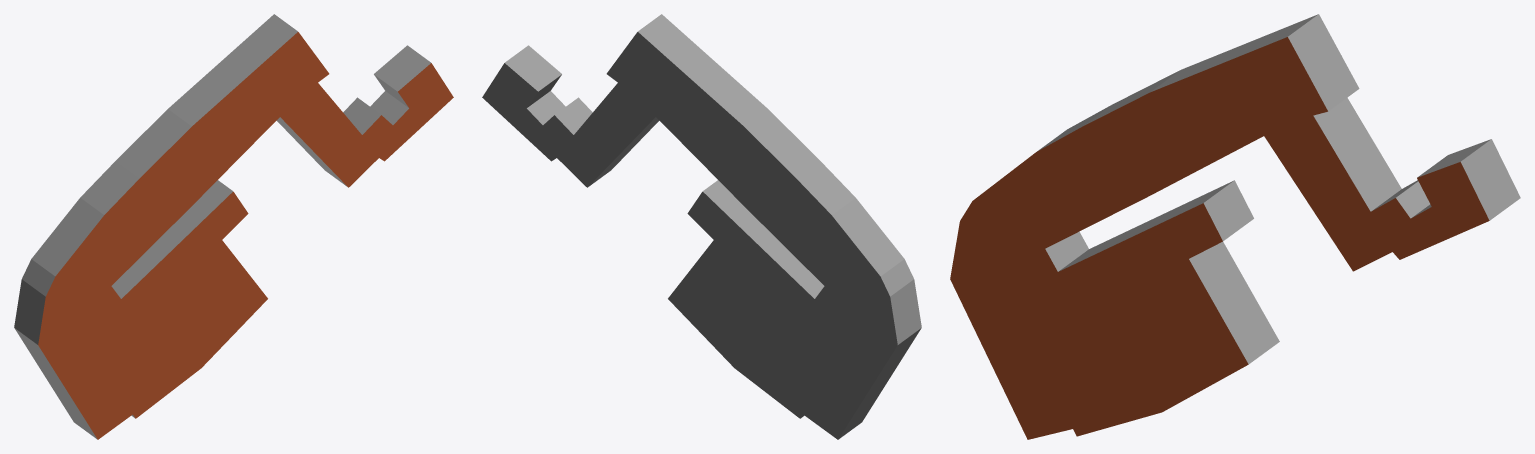
The model's file is construction_6962_assumed_A_Casa_h6m.obj.
3 renders of one model, left to right at view 1: azimuth 30°, elevation 25°; view 2: azimuth 150°, elevation 25°; view 3: azimuth 330°, elevation 25°, orthographic. The views are drawn at different scales.
Visible parts, largest first — view 1: construction_6962_assumed_A_Casa; view 2: construction_6962_assumed_A_Casa; view 3: construction_6962_assumed_A_Casa.
Boxes of the visible parts, x1,y1,x2,y2 form: construction_6962_assumed_A_Casa: (14, 14, 453, 439); construction_6962_assumed_A_Casa: (482, 14, 921, 439); construction_6962_assumed_A_Casa: (950, 14, 1520, 439).
Bounding box in the file's own units: 59.85 × 49.46 × 6.
